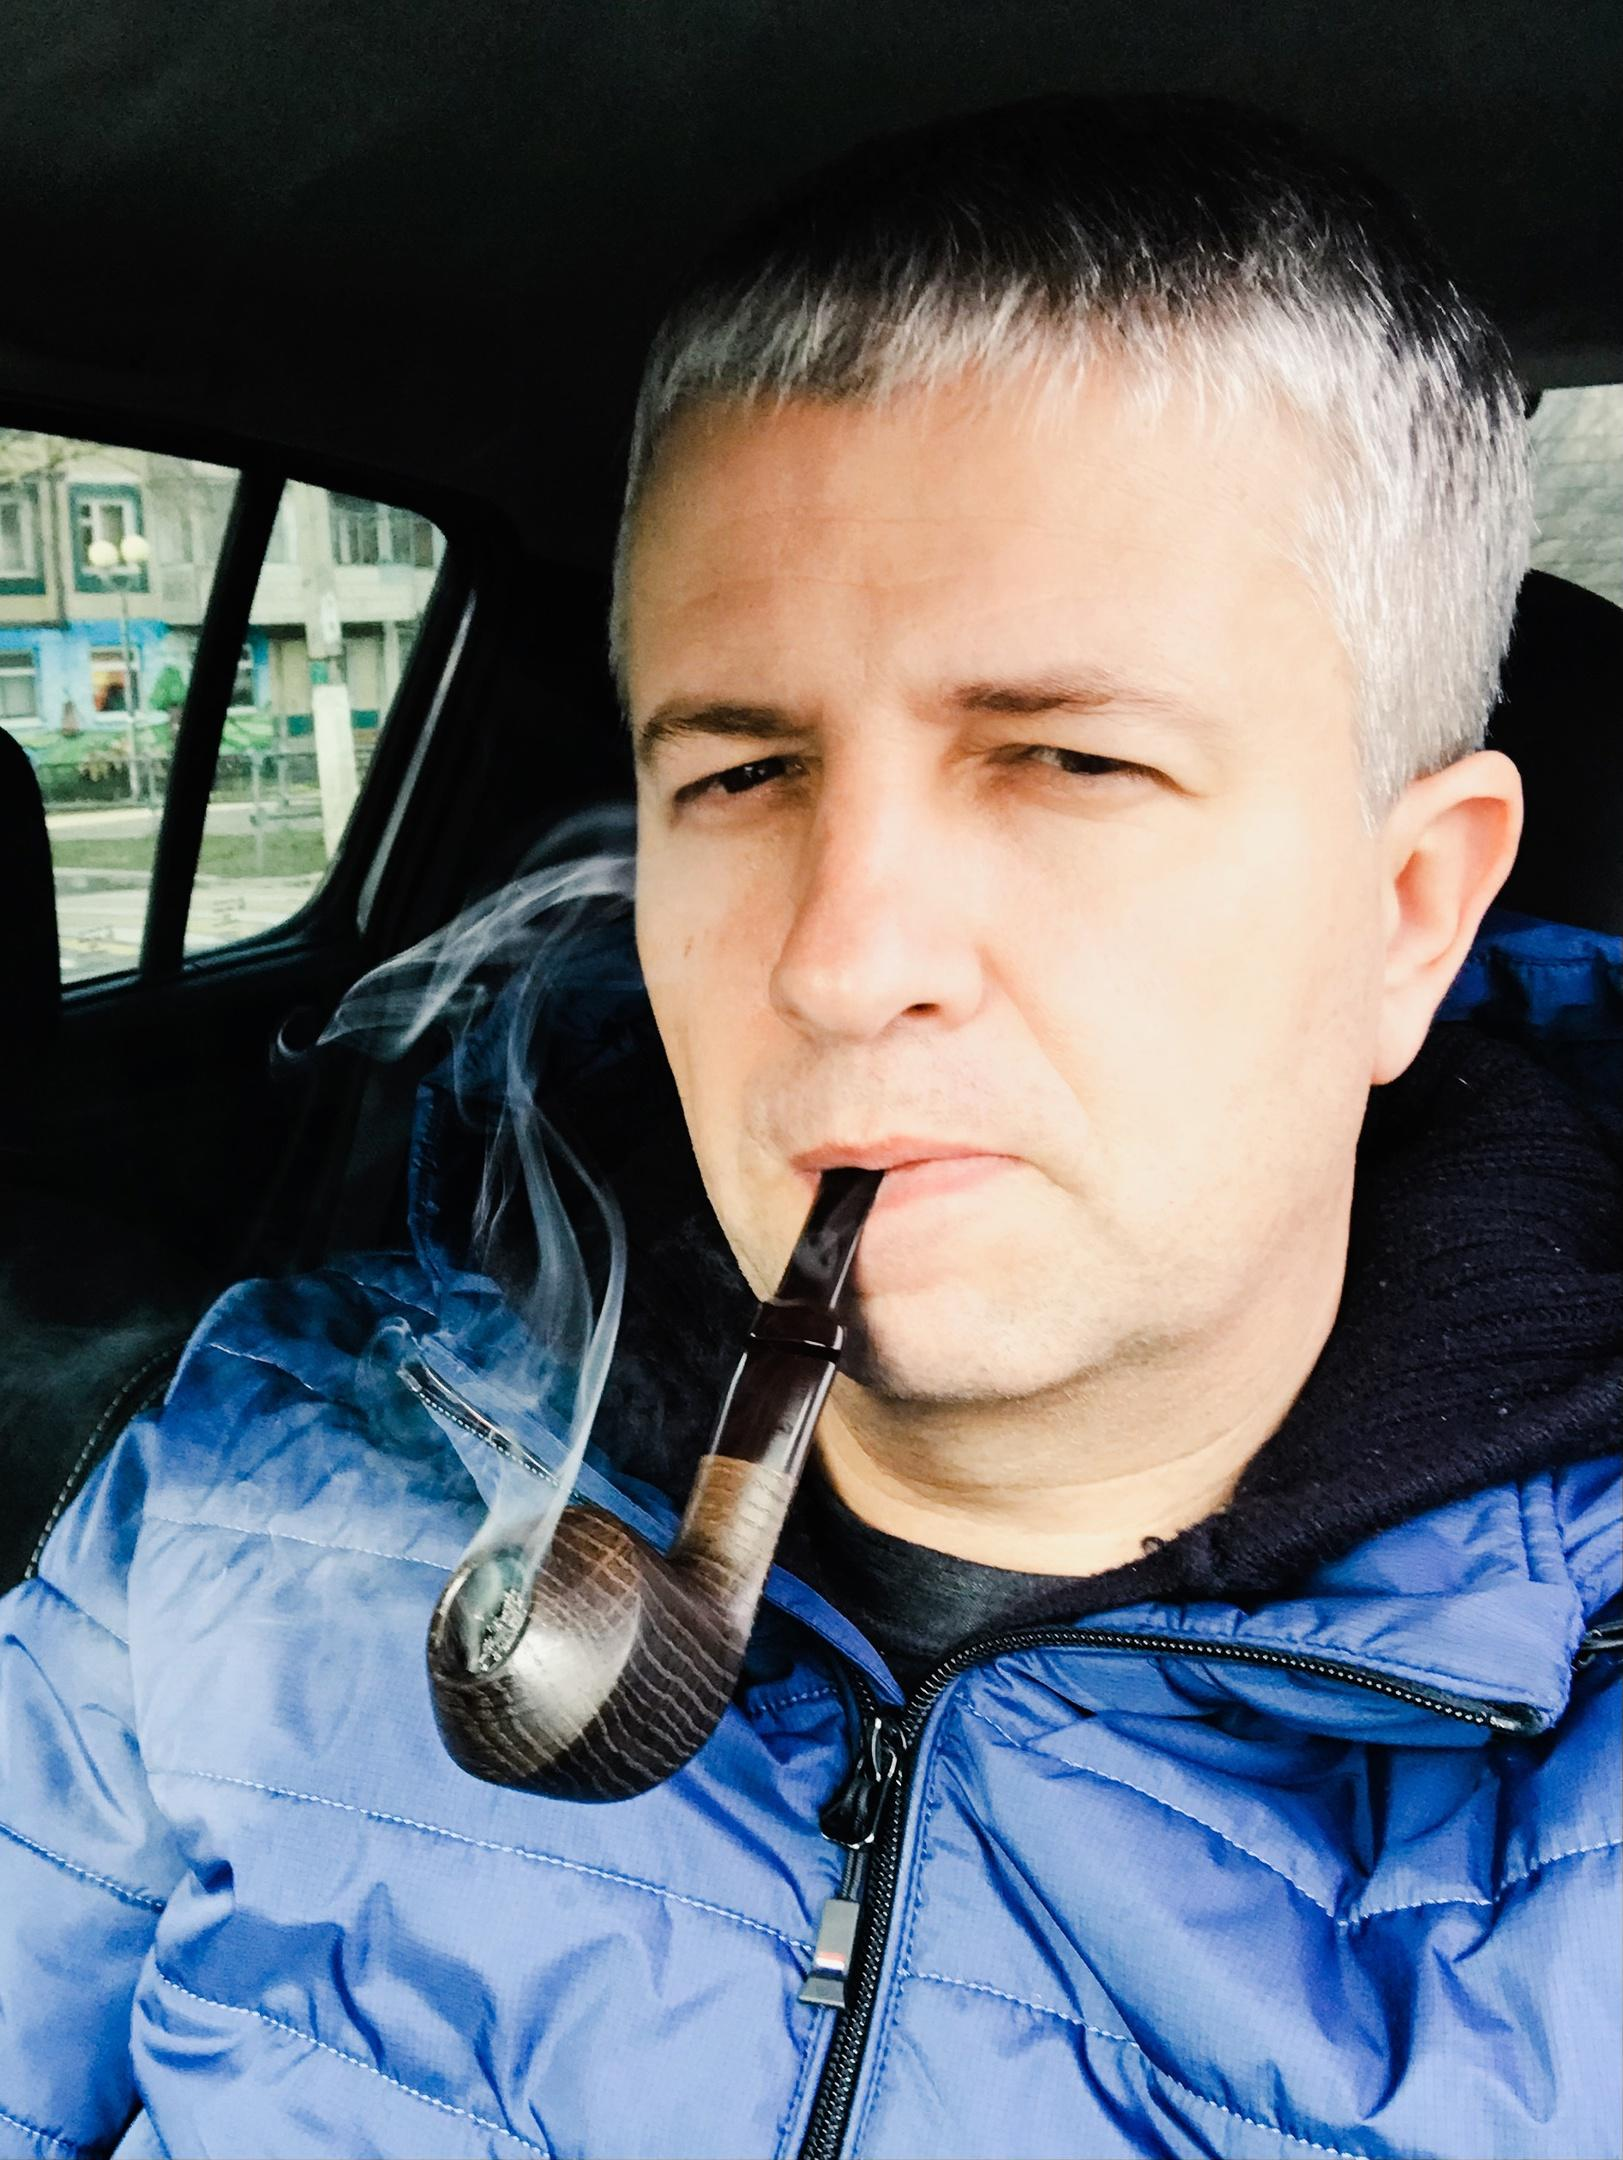trubka: (430, 1170, 888, 1804)
